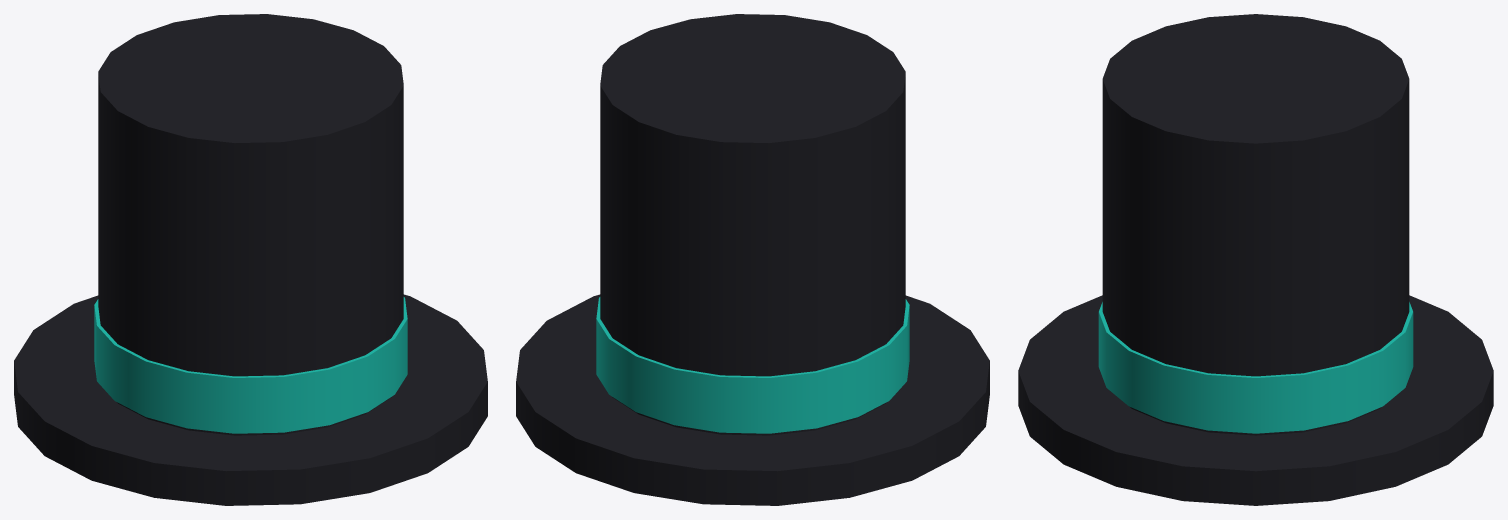
The model's file is top_tophat.glb.
3 views of the same model, side by side, from view 1: azimuth 30°, elevation 25°; view 2: azimuth 150°, elevation 25°; view 3: azimuth 270°, elevation 25° (orthographic).
Visible parts, largest first — view 1: Crown, Brim, Band; view 2: Crown, Brim, Band; view 3: Crown, Brim, Band.
Boxes of the visible parts, x1=… form: Crown: x1=98, y1=14, x2=403, y2=435; Brim: x1=14, y1=294, x2=487, y2=505; Band: x1=94, y1=297, x2=407, y2=433; Crown: x1=600, y1=14, x2=905, y2=435; Brim: x1=516, y1=294, x2=989, y2=505; Band: x1=596, y1=297, x2=909, y2=433; Crown: x1=1102, y1=14, x2=1409, y2=435; Brim: x1=1018, y1=295, x2=1493, y2=505; Band: x1=1098, y1=302, x2=1413, y2=433.
Size of the model in its own units: 0.62 by 0.47 by 0.62.
